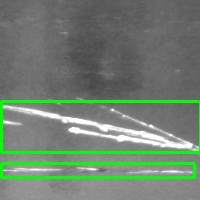scratches: (1, 101, 200, 152), (1, 163, 194, 177)
